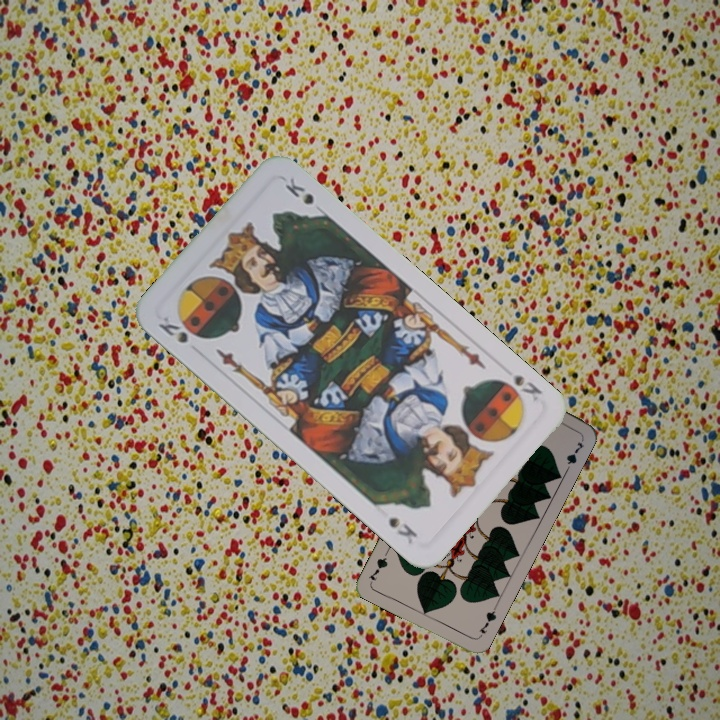G7: (475, 603, 499, 641)
SK: (154, 312, 203, 346), (508, 370, 545, 404)
